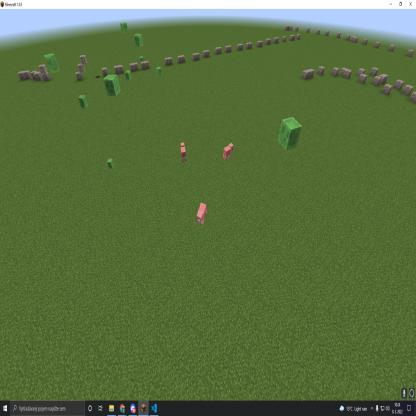pig: (194, 199, 210, 230), (221, 139, 236, 166), (178, 137, 190, 169)
